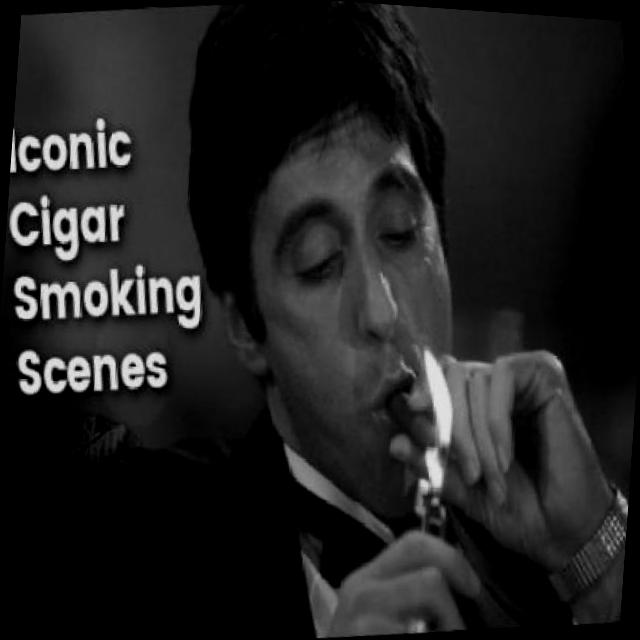cigarette: (371, 348, 607, 552)
